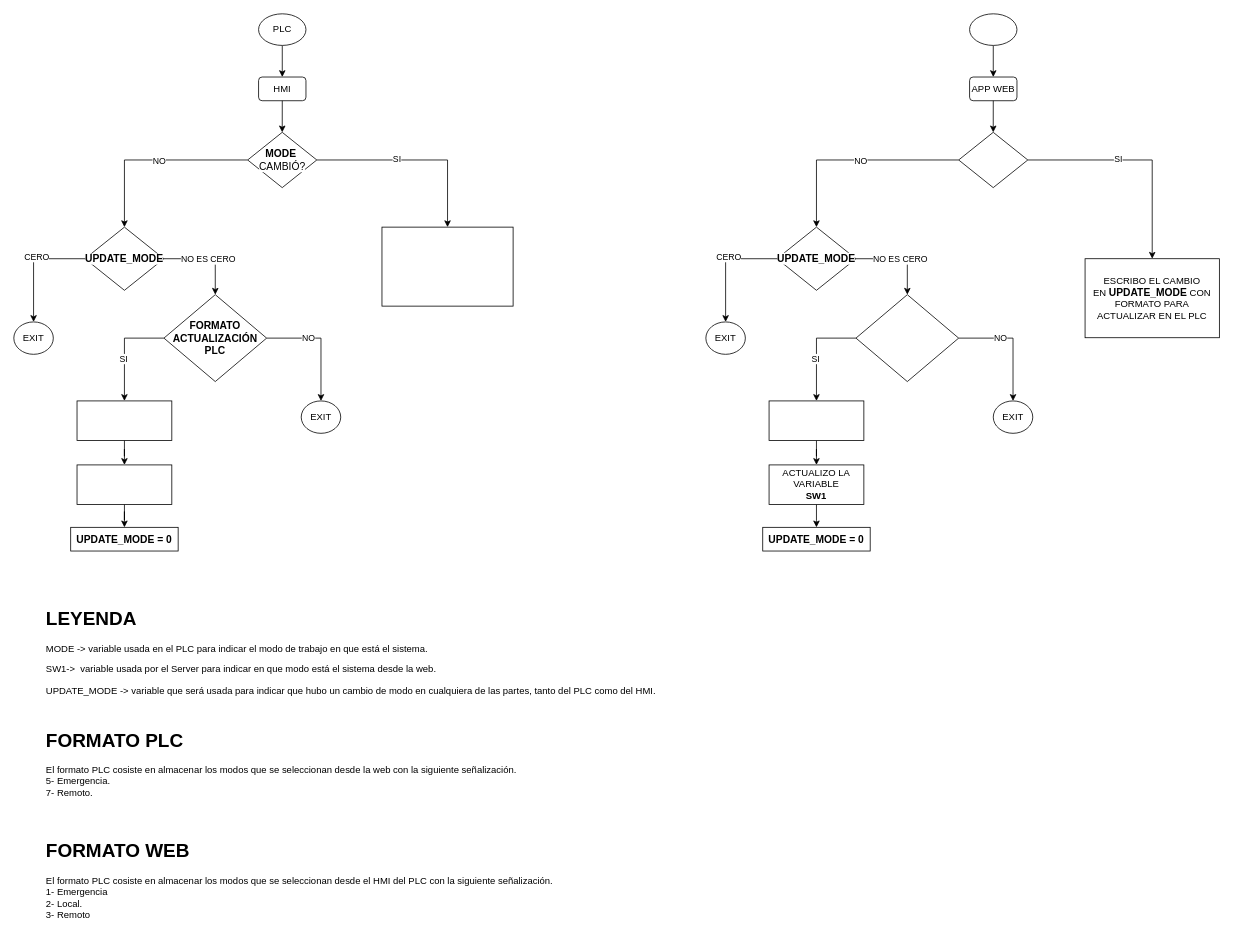
Image size: 1233x944. Some labels were removed from this diagram. The shapes that lost their labels are listed below. From the top down, each one's centre as x and y in pixels, then its label:
At pixel 993 29: "SERVER".
At pixel 993 160: "SW1 CAMBIÓ?".
At pixel 447 266: "ESCRIBO EL CAMBIO EN UPDATE_MODE CON FORMATO PARA ACTUALIZAR EN LA WEB".
At pixel 907 338: "FORMATO ACTUALIZACIÓN WEB".
At pixel 124 420: "LEO EL MODO DESDE UPDATE_MODE".
At pixel 816 420: "LEO EL MODO DESDE WEB_MODE".
At pixel 124 484: "ACTUALIZO LA VARIABLE MODE".
